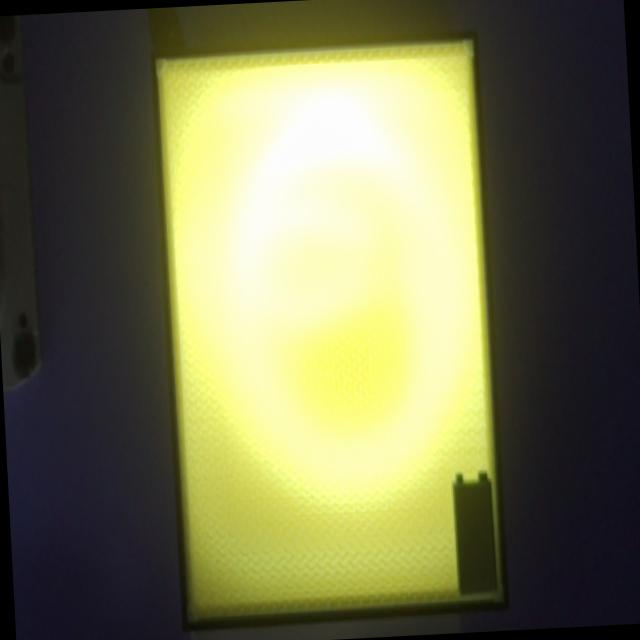bateria: (453, 473, 497, 594)
mesa: (150, 31, 509, 632)
